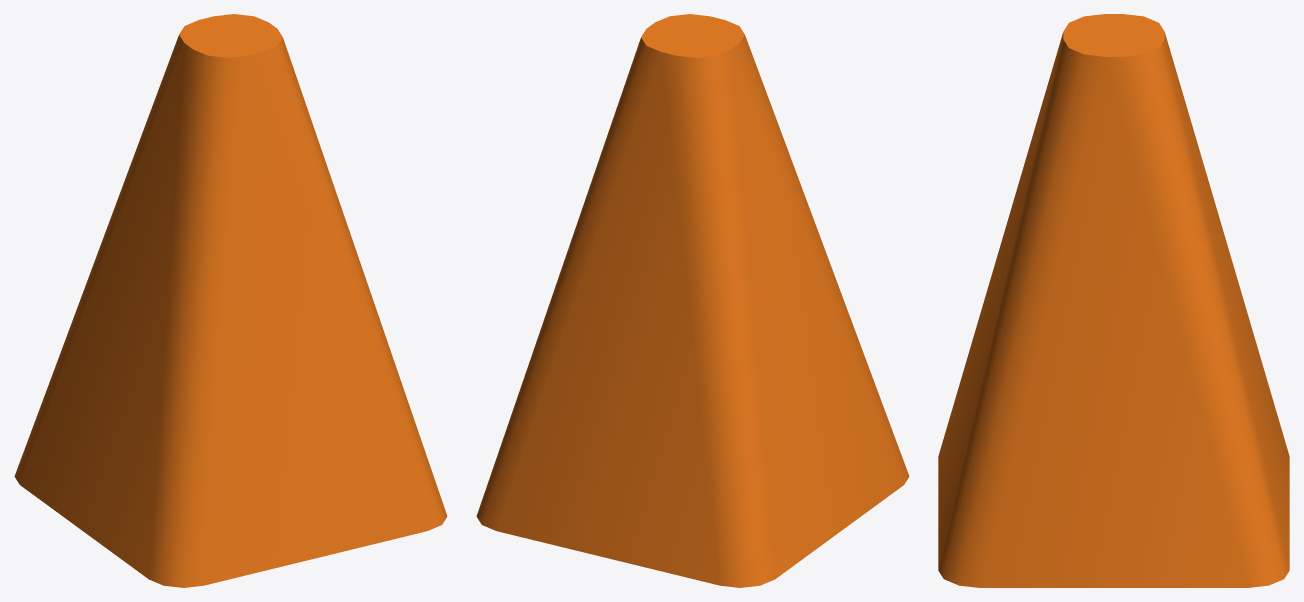
File: pointything.fbx
3 renders of one model, left to right at view 1: azimuth 30°, elevation 25°; view 2: azimuth 150°, elevation 25°; view 3: azimuth 270°, elevation 25°, orthographic. The views are drawn at different scales.
Visible parts, largest first — view 1: PointyThing; view 2: PointyThing; view 3: PointyThing.
Part boxes in pixels (box(x1,y1,x2,y2)): PointyThing: box(14, 14, 447, 587); PointyThing: box(476, 14, 909, 587); PointyThing: box(938, 14, 1289, 587).
Size of the model in its own units: 83.72 by 126 by 83.72.
